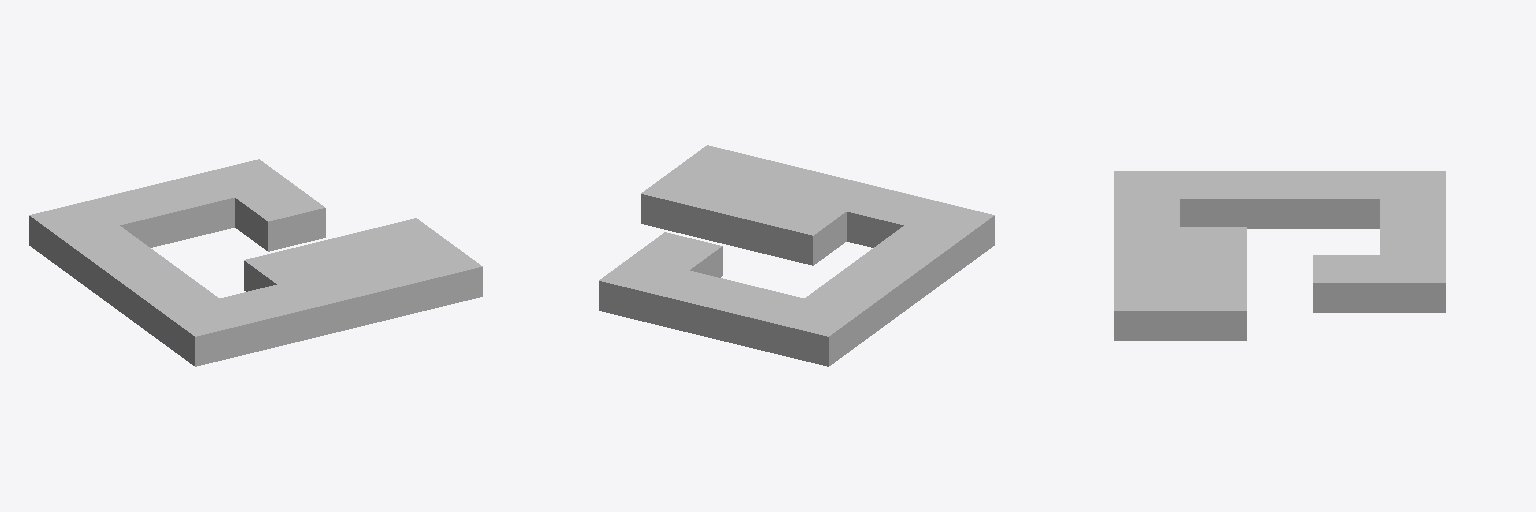
Rendered from 6f_block.obj.
The picture shows the model from 3 angles: view 1: azimuth 30°, elevation 25°; view 2: azimuth 150°, elevation 25°; view 3: azimuth 270°, elevation 25°; orthographic projection.
Parts seen in each view (by area): view 1: foil.block.0.0_block.2738, foil.block.3.3_block.2751, foil.block.2.4_block.2748, foil.block.4.0_block.2753, foil.block.2.0_block.2746, foil.block.1.0_block.2743, foil.block.3.0_block.2749, foil.block.1.4_block.2745, foil.block.0.3_block.2741, foil.block.0.4_block.2742, foil.block.0.2_block.2740, foil.block.0.1_block.2739 (+4 smaller); view 2: foil.block.0.4_block.2742, foil.block.2.1_block.2747, foil.block.2.4_block.2748, foil.block.3.1_block.2750, foil.block.4.1_block.2754, foil.block.1.4_block.2745, foil.block.3.4_block.2752, foil.block.1.0_block.2743, foil.block.0.1_block.2739, foil.block.0.0_block.2738, foil.block.0.2_block.2740, foil.block.0.3_block.2741 (+4 smaller); view 3: foil.block.0.3_block.2741, foil.block.3.3_block.2751, foil.block.4.1_block.2754, foil.block.0.2_block.2740, foil.block.3.4_block.2752, foil.block.4.0_block.2753, foil.block.0.1_block.2739, foil.block.2.1_block.2747, foil.block.3.1_block.2750, foil.block.0.0_block.2738, foil.block.0.4_block.2742, foil.block.1.0_block.2743 (+4 smaller).
Boxes of the visible parts, x1,y1,x2,y2 form: foil.block.0.0_block.2738: [162, 298, 252, 366]; foil.block.3.3_block.2751: [235, 183, 325, 251]; foil.block.2.4_block.2748: [145, 173, 234, 241]; foil.block.4.0_block.2753: [392, 242, 482, 310]; foil.block.2.0_block.2746: [277, 270, 367, 338]; foil.block.1.0_block.2743: [220, 285, 309, 352]; foil.block.3.0_block.2749: [335, 257, 424, 324]; foil.block.1.4_block.2745: [87, 187, 176, 247]; foil.block.0.3_block.2741: [62, 226, 152, 293]; foil.block.0.4_block.2742: [29, 201, 119, 268]; foil.block.0.2_block.2740: [96, 250, 184, 317]; foil.block.0.1_block.2739: [129, 274, 218, 341]; foil.block.0.4_block.2742: [771, 298, 861, 366]; foil.block.2.1_block.2747: [756, 198, 846, 265]; foil.block.2.4_block.2748: [656, 270, 746, 338]; foil.block.3.1_block.2750: [698, 183, 788, 251]; foil.block.4.1_block.2754: [641, 169, 730, 237]; foil.block.1.4_block.2745: [714, 285, 803, 352]; foil.block.3.4_block.2752: [599, 257, 688, 324]; foil.block.1.0_block.2743: [847, 187, 936, 247]; foil.block.0.1_block.2739: [871, 226, 961, 293]; foil.block.0.0_block.2738: [904, 201, 994, 268]; foil.block.0.2_block.2740: [839, 250, 927, 317]; foil.block.0.3_block.2741: [805, 274, 894, 341]; foil.block.0.3_block.2741: [1313, 171, 1379, 228]; foil.block.3.3_block.2751: [1313, 255, 1379, 312]; foil.block.4.1_block.2754: [1180, 283, 1246, 340]; foil.block.0.2_block.2740: [1247, 171, 1312, 228]; foil.block.3.4_block.2752: [1380, 255, 1445, 312]; foil.block.4.0_block.2753: [1114, 283, 1179, 340]; foil.block.0.1_block.2739: [1180, 171, 1246, 226]; foil.block.2.1_block.2747: [1180, 227, 1246, 254]; foil.block.3.1_block.2750: [1180, 255, 1246, 282]; foil.block.0.0_block.2738: [1114, 171, 1179, 198]; foil.block.0.4_block.2742: [1380, 171, 1445, 198]; foil.block.1.0_block.2743: [1114, 199, 1179, 226].
Size of the model in its own units: 10 by 1 by 10.